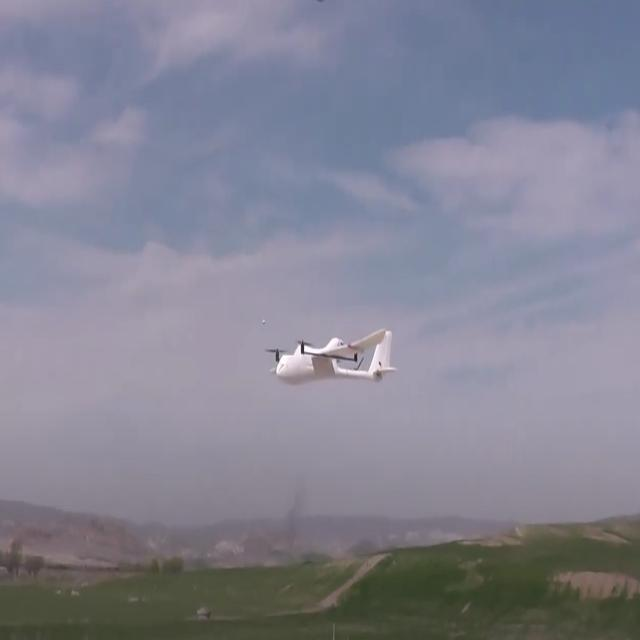iha: (258, 327, 392, 388)
